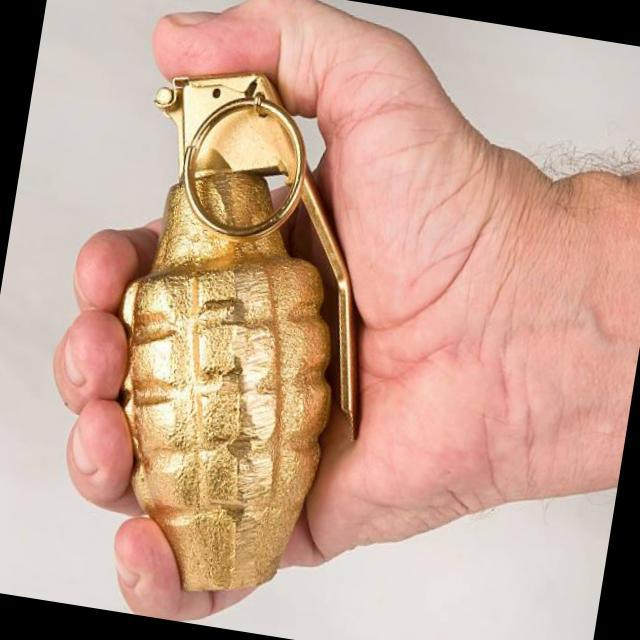grenade: (70, 39, 422, 618)
